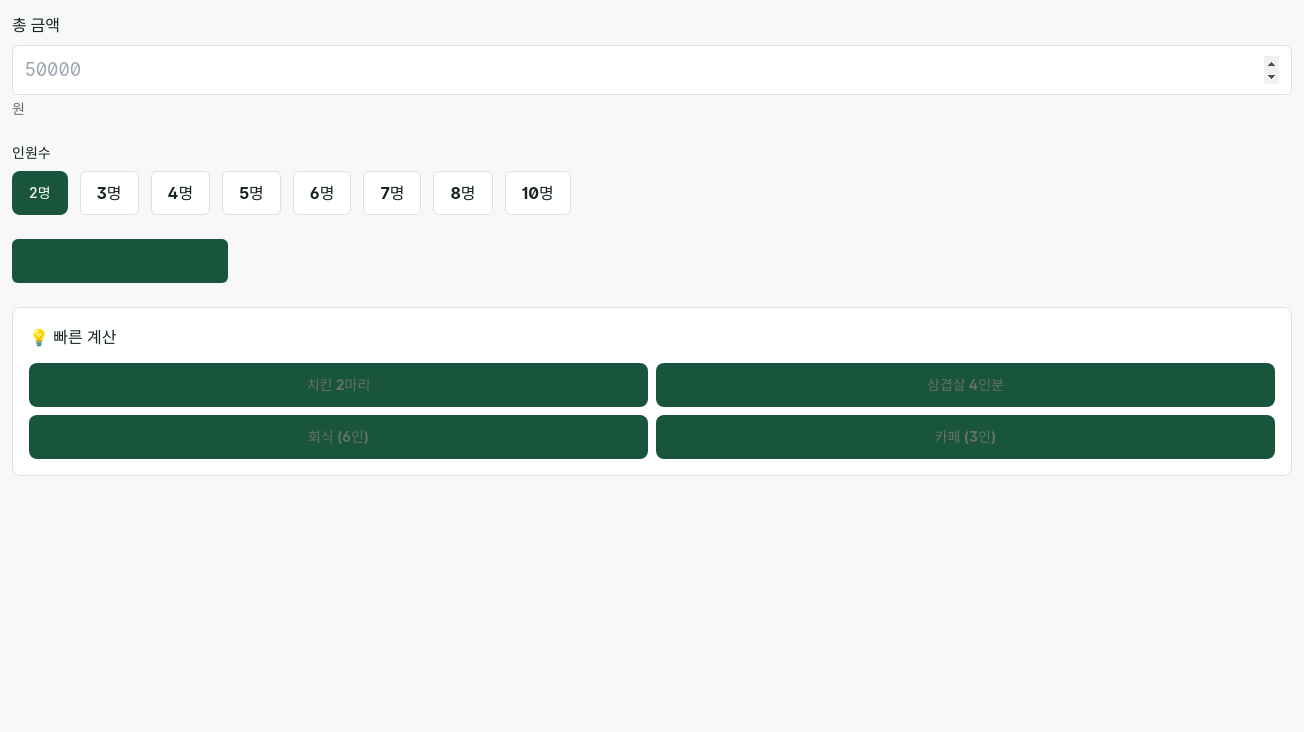
DutchPayCalculator › calculates equal split correctly
Total amount
In the number field: (652, 70) [12,45,1292,95], type "30000"
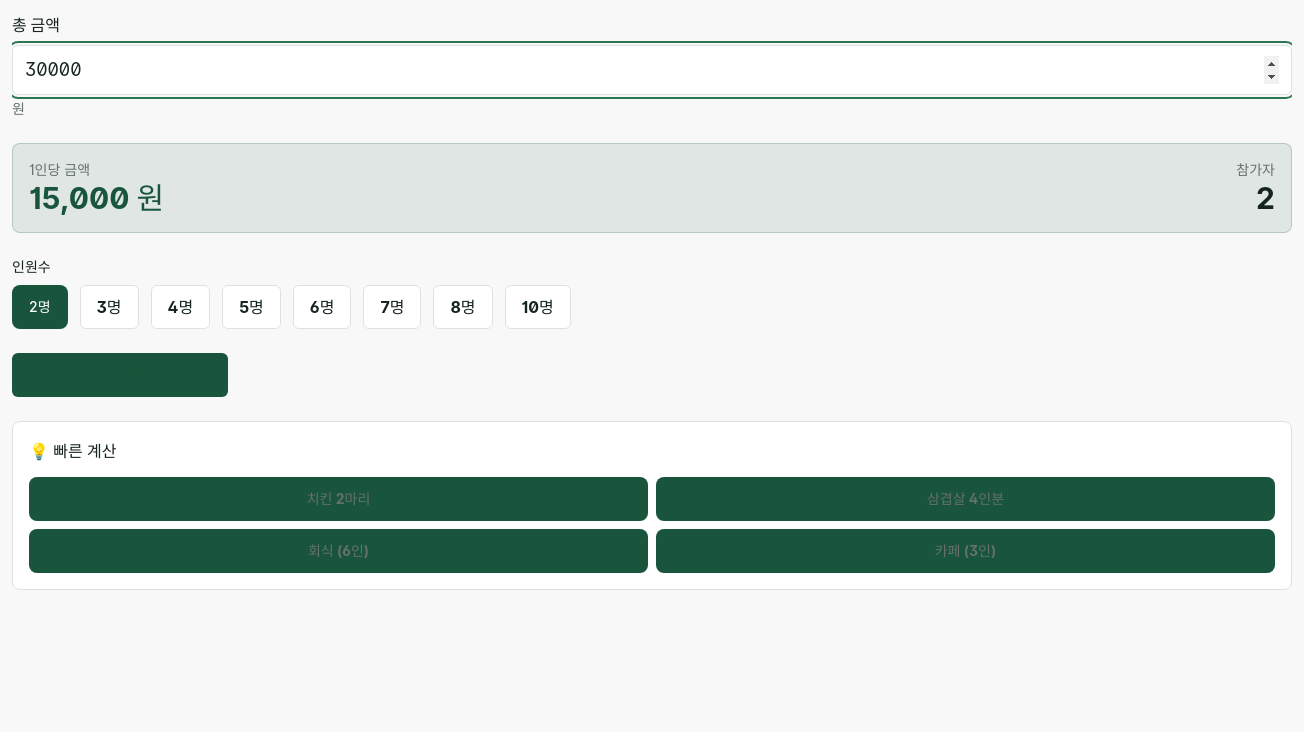
Click the button "3명": (109, 307) [80,285,139,329]
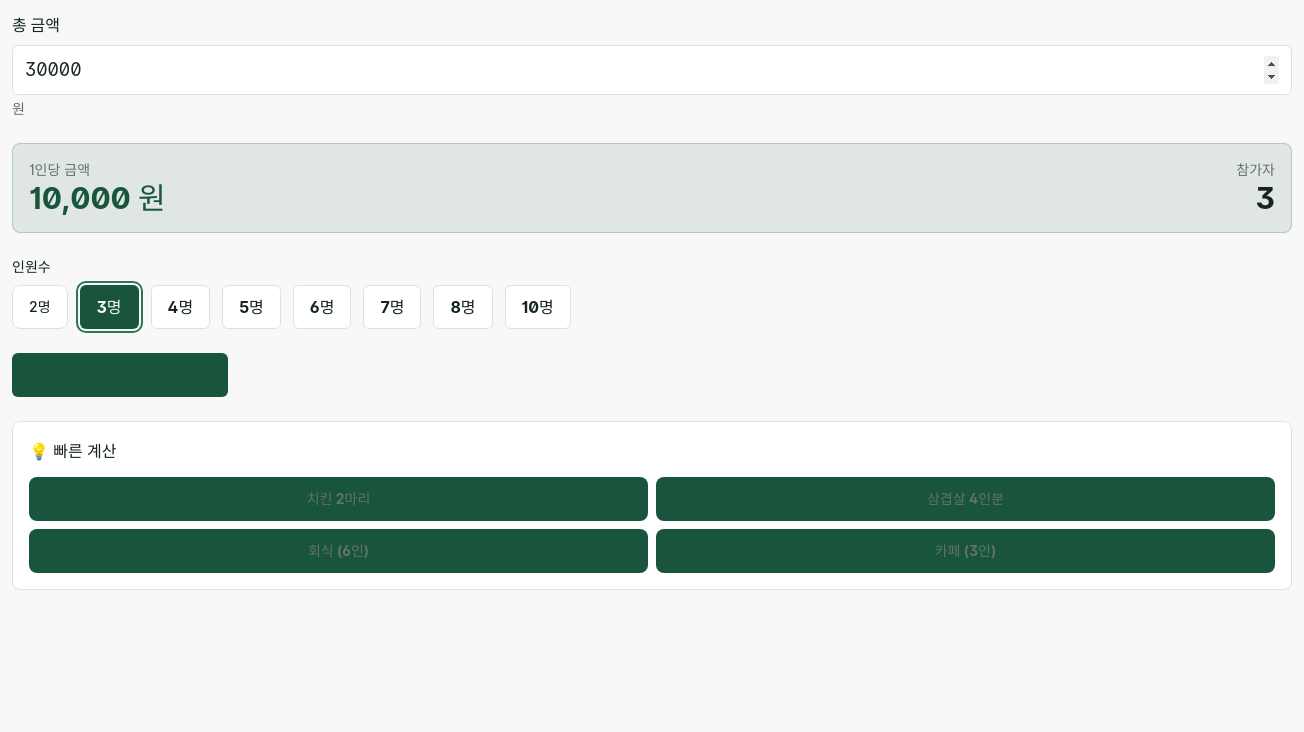
Now the text "10,000 원" is shown, box [29,180,166,216]
